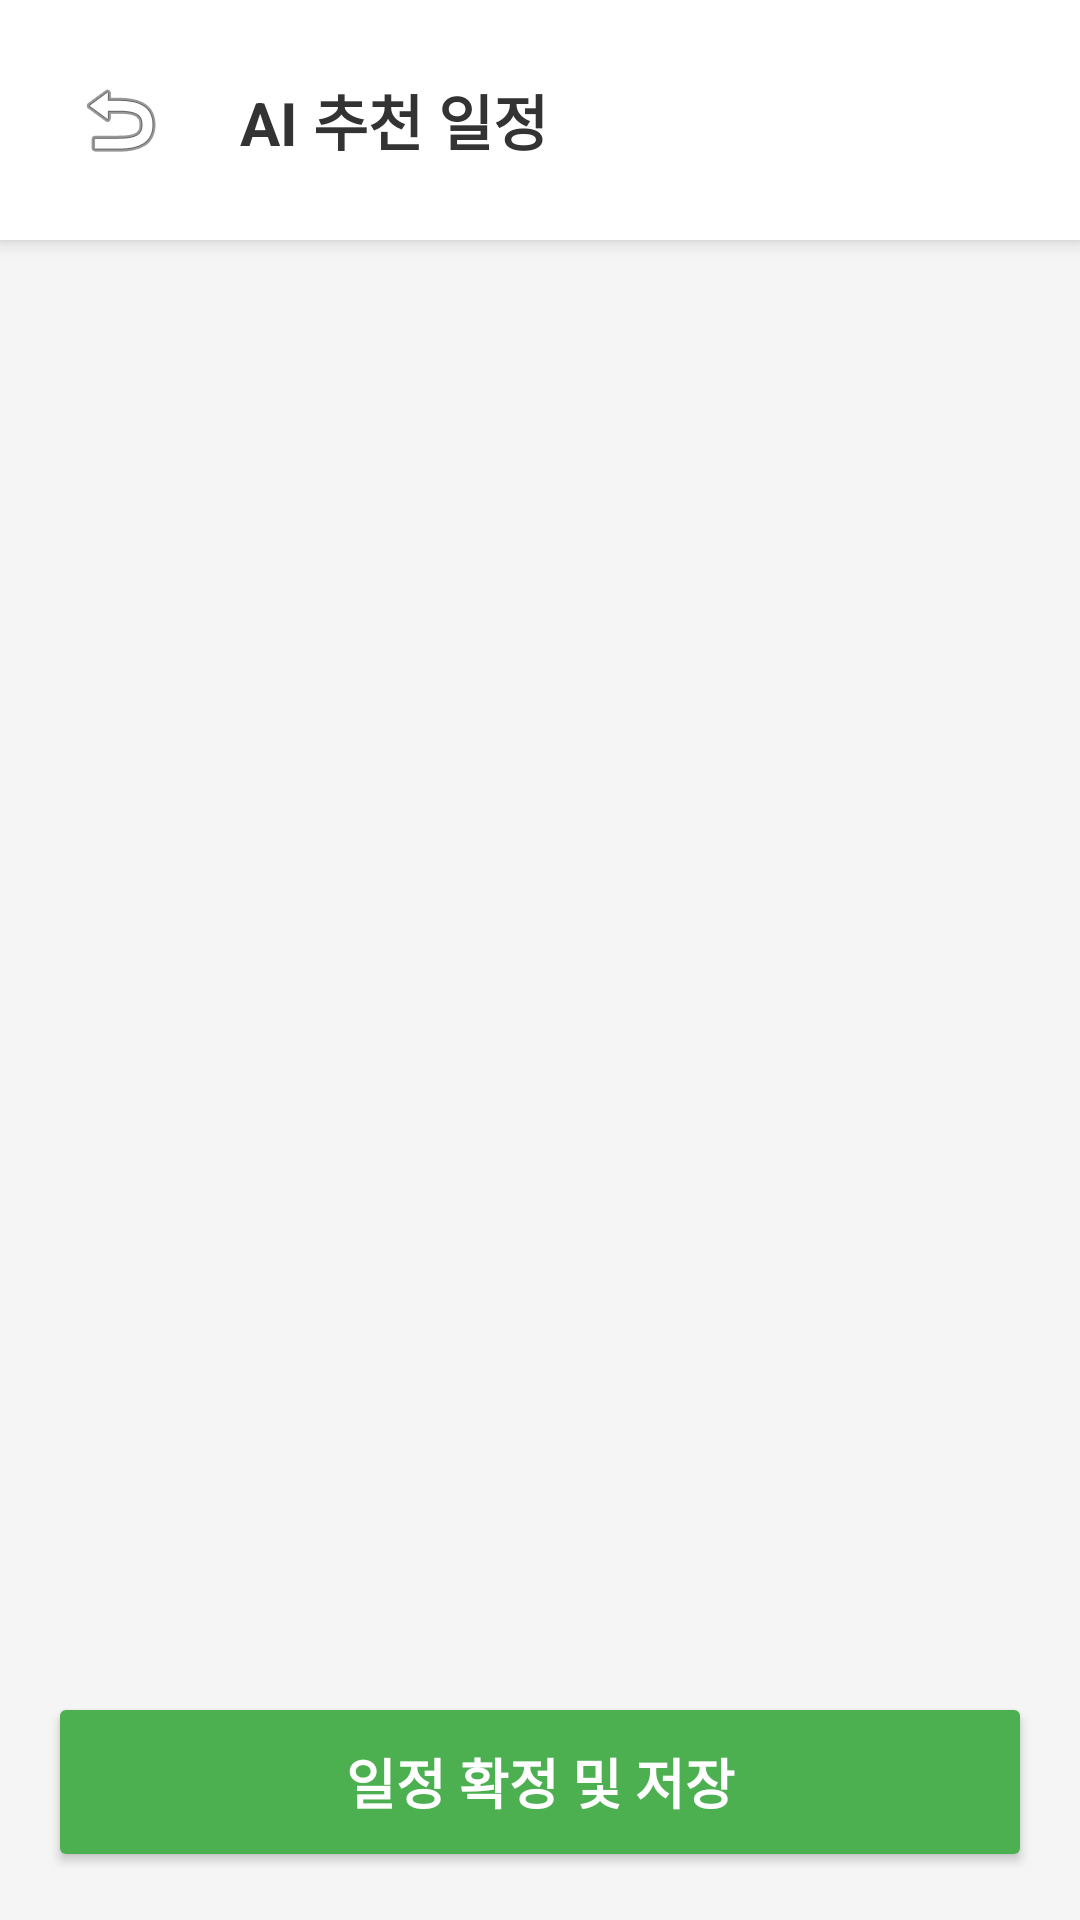

Named icons in this screenshot (1080px x 1920px) and their centers, (x,y):
뒤로가기: (121,120)
